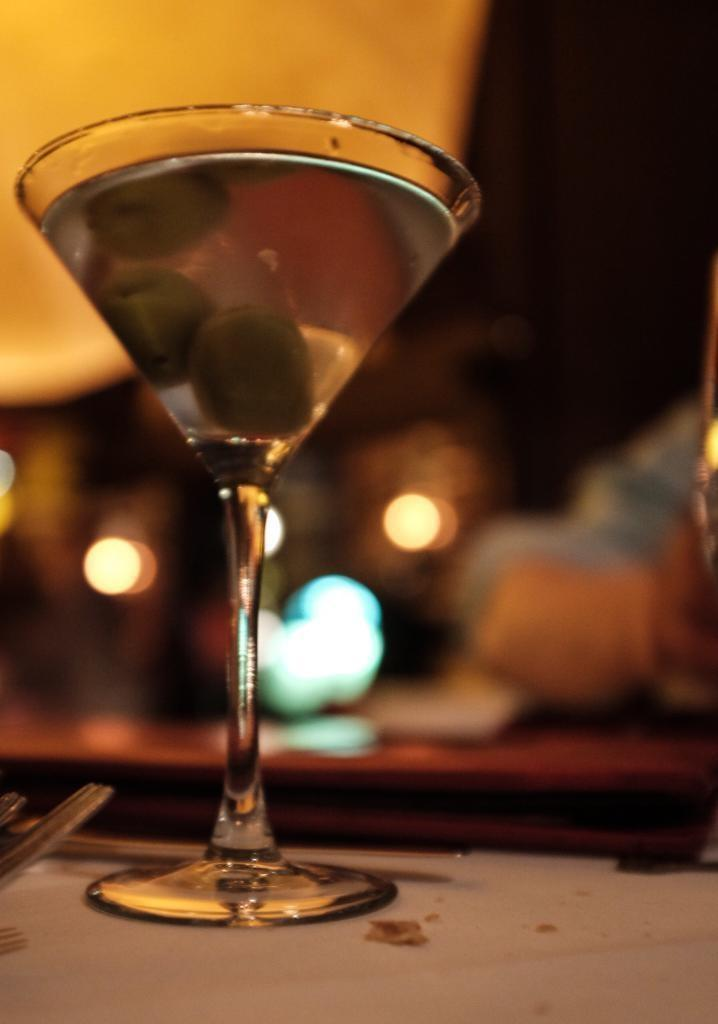glass-wine: (13, 102, 481, 927)
